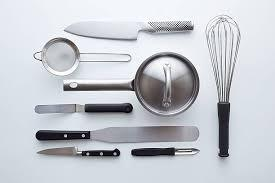Knife: (35, 125, 199, 142), (63, 19, 193, 39), (34, 102, 132, 113), (36, 146, 120, 156), (131, 147, 199, 156)
